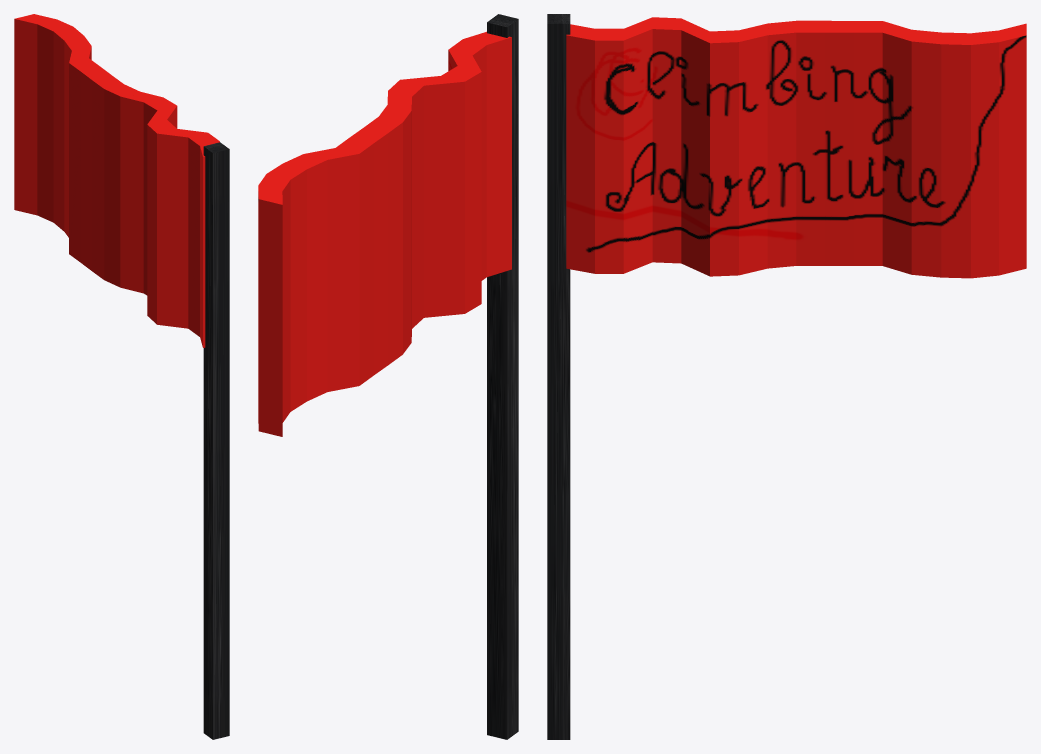
File: flag.fbx
The picture shows the model from 3 angles, left to right: view 1: azimuth 30°, elevation 25°; view 2: azimuth 150°, elevation 25°; view 3: azimuth 270°, elevation 25°; orthographic projection. The views are drawn at different scales.
Parts seen in each view (by area): view 1: Cube.001, Cube; view 2: Cube.001, Cube; view 3: Cube.001, Cube.
Part boxes in pixels (left/top/right/bottom): Cube.001: left=14, top=14, right=219, bottom=347; Cube: left=203, top=142, right=229, bottom=739; Cube.001: left=258, top=31, right=511, bottom=436; Cube: left=487, top=14, right=518, bottom=739; Cube.001: left=566, top=17, right=1026, bottom=278; Cube: left=547, top=14, right=570, bottom=739.
Bounding box in the file's own units: 32.22 × 386 × 234.
